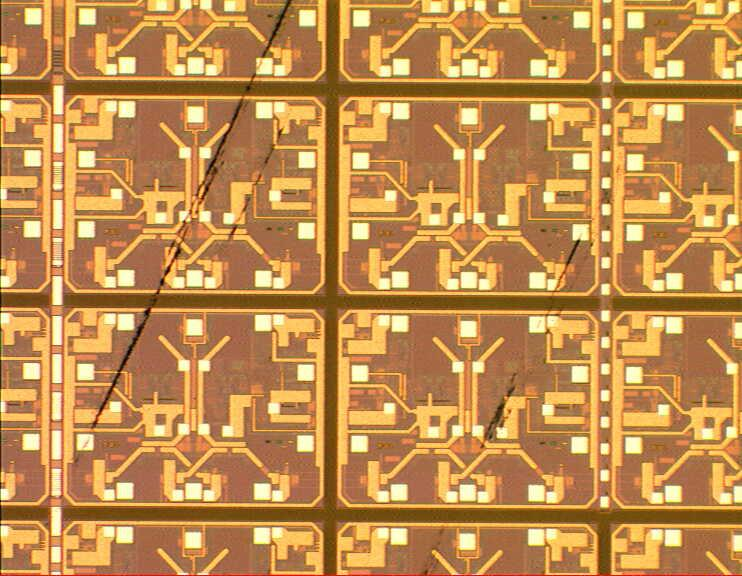SCRATCH: (56, 1, 640, 576)
